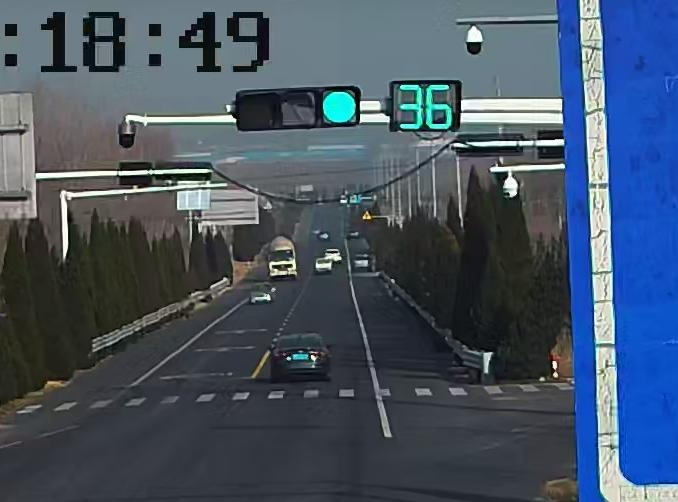green: (319, 89, 359, 125)
greentime: (396, 81, 458, 133)
